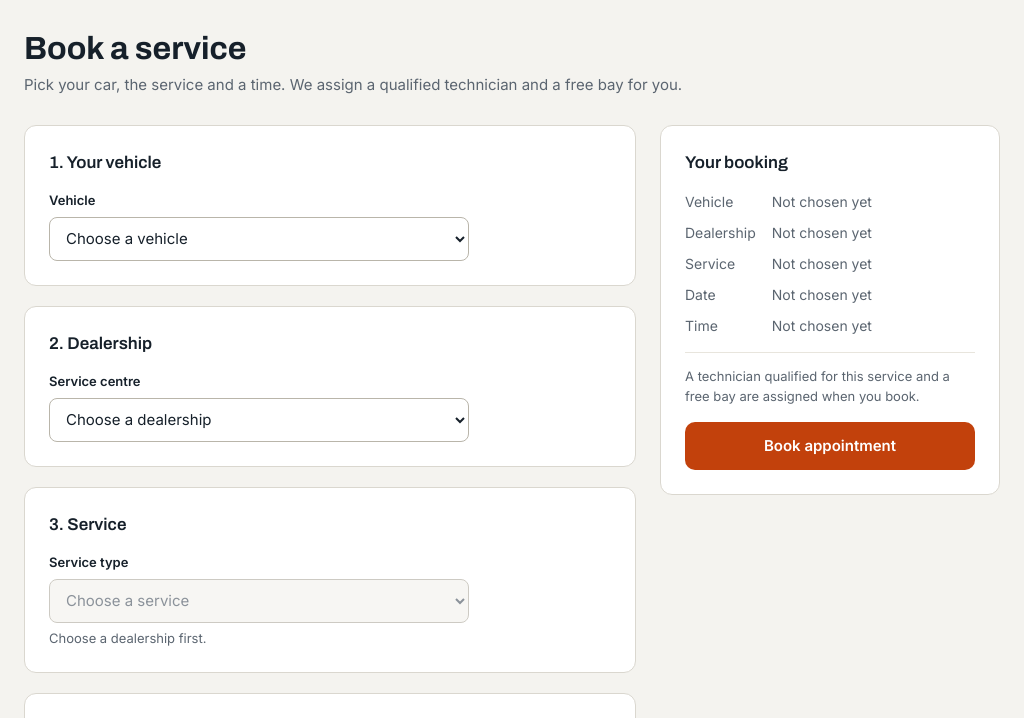
Test case: BookingPage calendar › shows an error with Try again when the month cannot be loaded, and still lets the user pick a date
Check: the dropdown labelled "Vehicle" is shown, box [49,217,469,261]
Select "District 1 Service Centre · open 08:00–17:00" in the dropdown labelled "Service centre": (259, 420) [49,398,469,442]
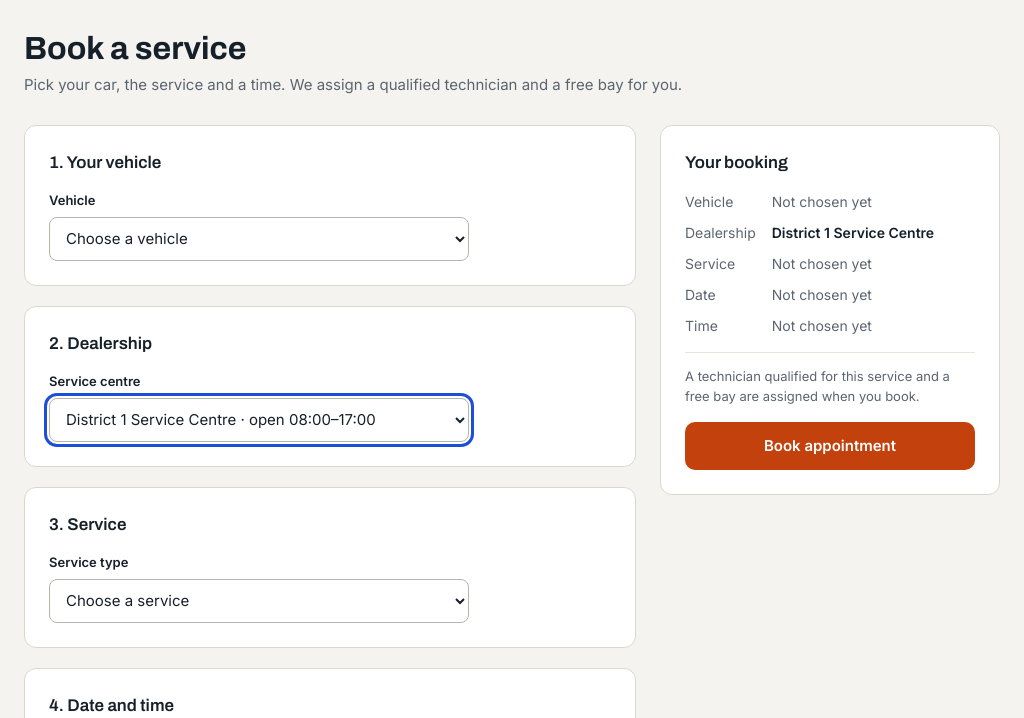
Select "Oil change · 60 min" in the dropdown labelled "Service type": (259, 601) [49,579,469,623]
(page scrolled)
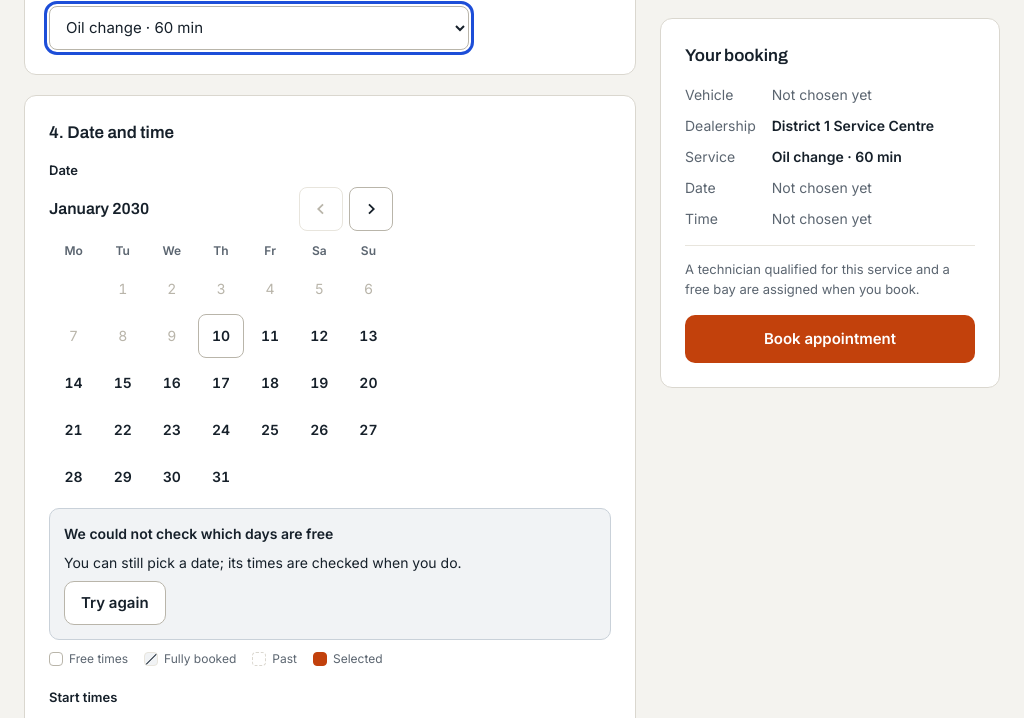
Check: the text "We could not check which days are free" is shown, box [64,523,333,544]
Click the button "15": (123, 383) [100,361,146,405]
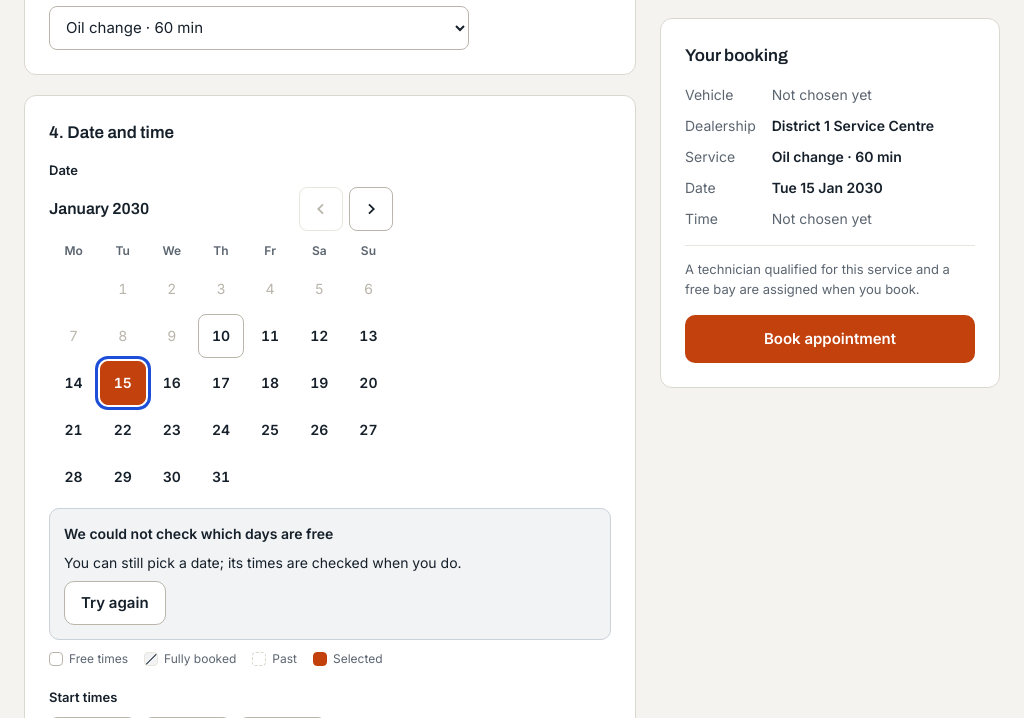
Check: the text "Tue 15 Jan 2030" is shown, box [772,180,883,196]
Click the button "Try again": (115, 603) [64,581,166,625]
(page scrolled)
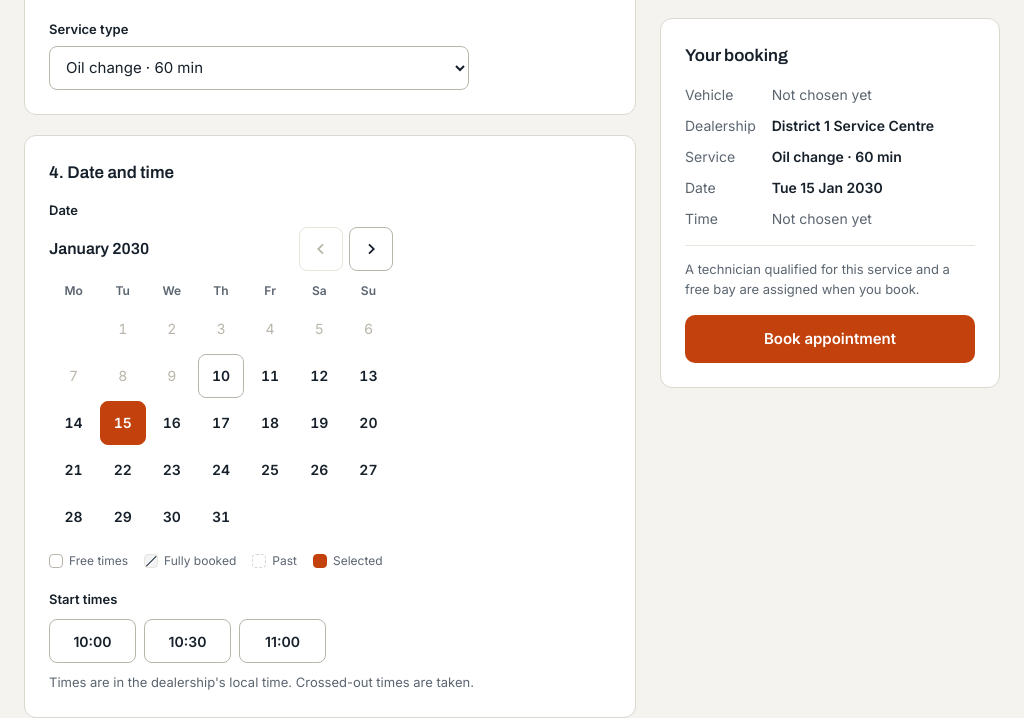
Check: the button named "Fri 18 Jan 2030" is shown, box [247,401,293,445]
Check: the text "We could not check which days are free" is gone
